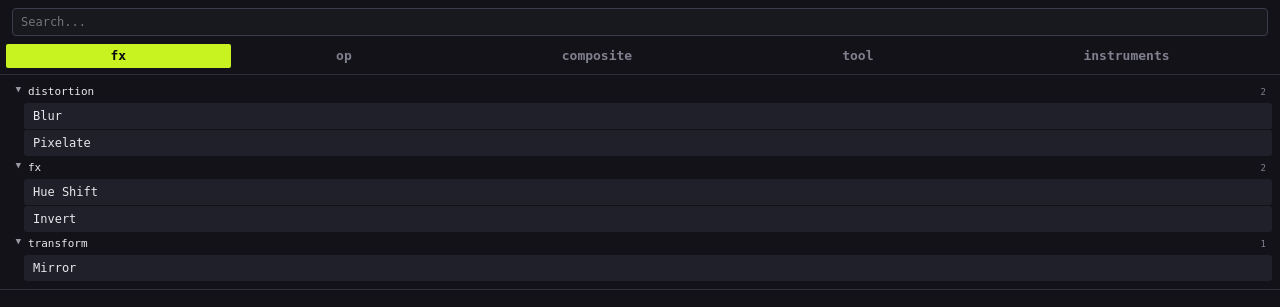
Test: Interactions — Effect Browser Categories › each category filter shows relevant effects
Expected: the number of buttons with class "effect-browser__item" is 5, 24,103 -> 1272,129; 24,130 -> 1272,156; 24,179 -> 1272,205; 24,206 -> 1272,232; 24,255 -> 1272,281
# Collapse "distortion" (first folder)
Click the button with class "effect-browser__folder-header" showing "▶ distortion 2" at point(61, 92), box 8,81 -> 1272,102
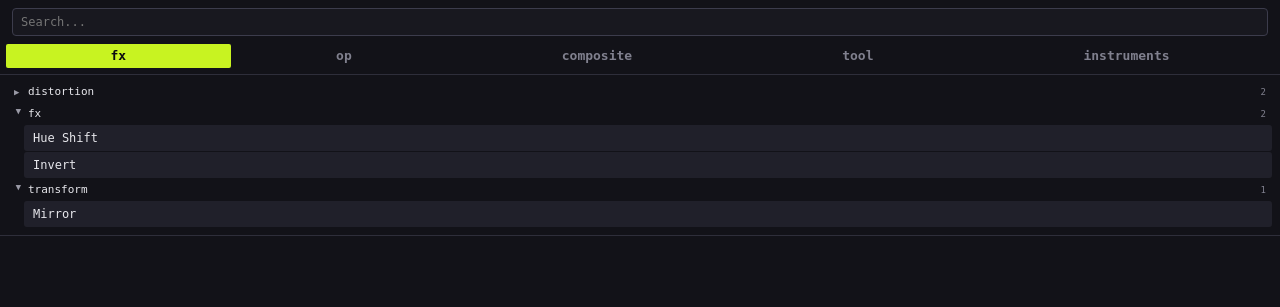
Expected: the number of buttons with class "effect-browser__item" is 3, 24,125 -> 1272,151; 24,152 -> 1272,178; 24,201 -> 1272,227
# Collapse "fx" (second folder)
Click the button with class "effect-browser__folder-header" showing "▶ fx 2" at point(19, 111), box 8,103 -> 1272,124
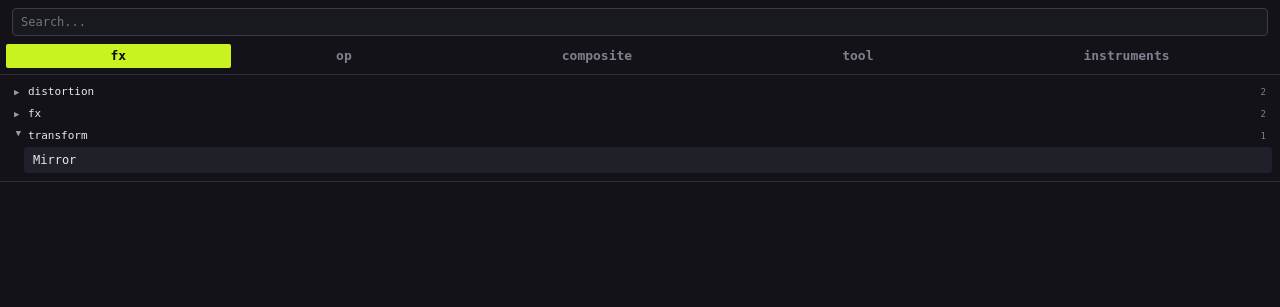
Expected: the number of buttons with class "effect-browser__item" is 1, 24,147 -> 1272,173
# Re-expand distortion
Click the button with class "effect-browser__folder-header" showing "▶ distortion 2" at point(61, 92), box 8,81 -> 1272,102
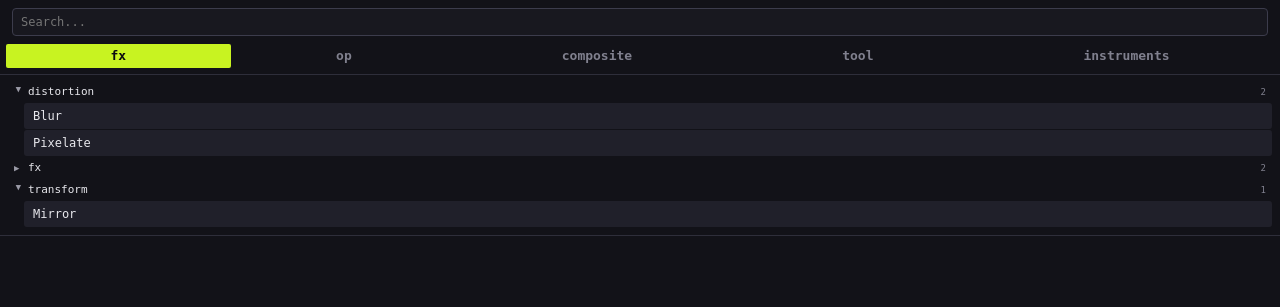
Expected: the number of buttons with class "effect-browser__item" is 3, 24,103 -> 1272,129; 24,130 -> 1272,156; 24,201 -> 1272,227
